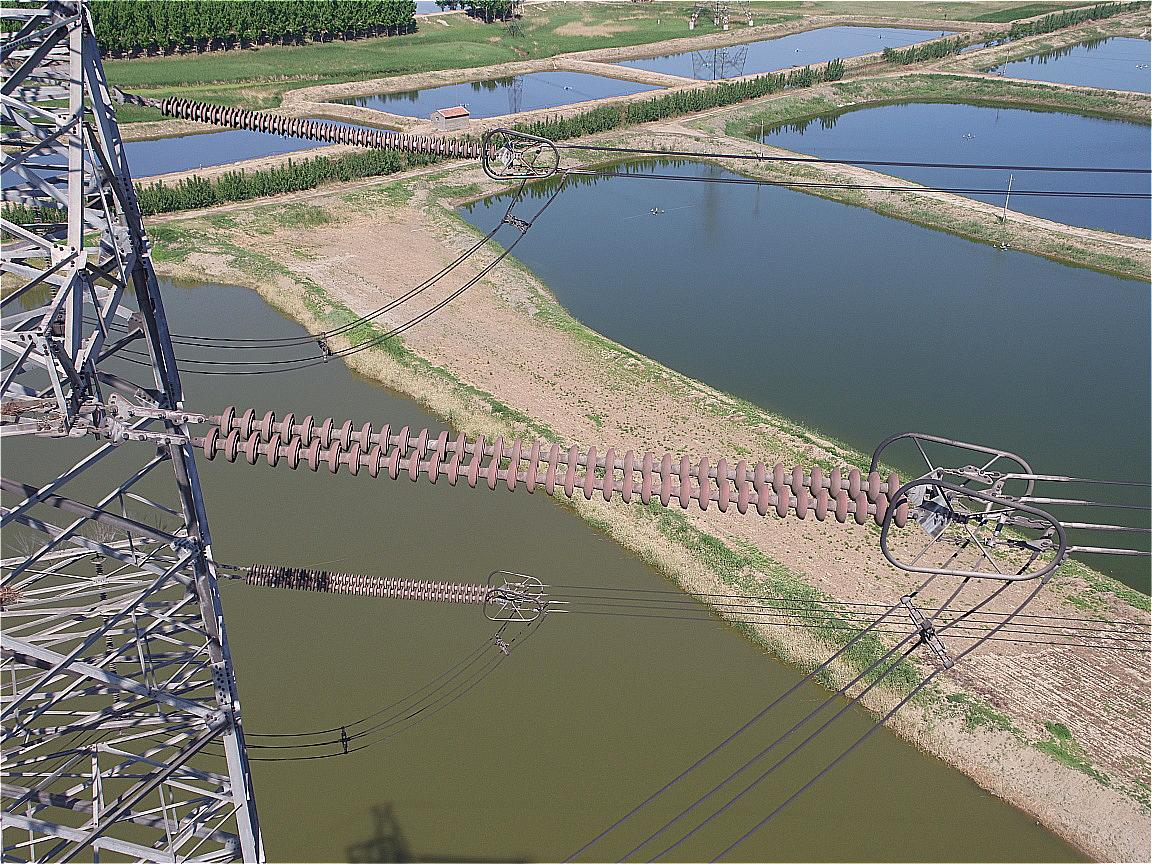insultor1: (160, 392, 924, 538)
insultor2: (146, 84, 500, 169)
